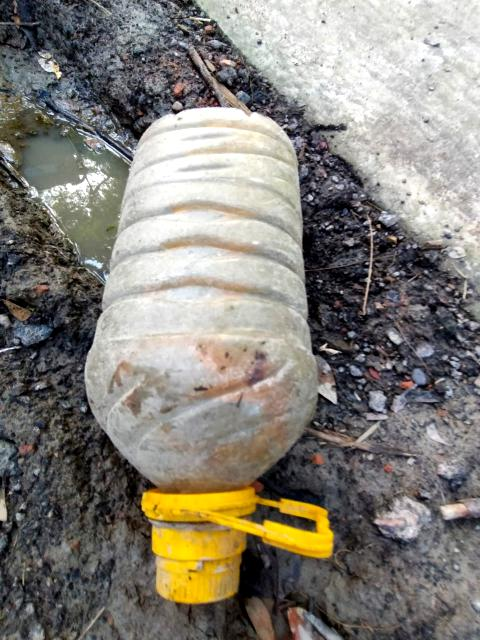bottle: (64, 90, 343, 576)
